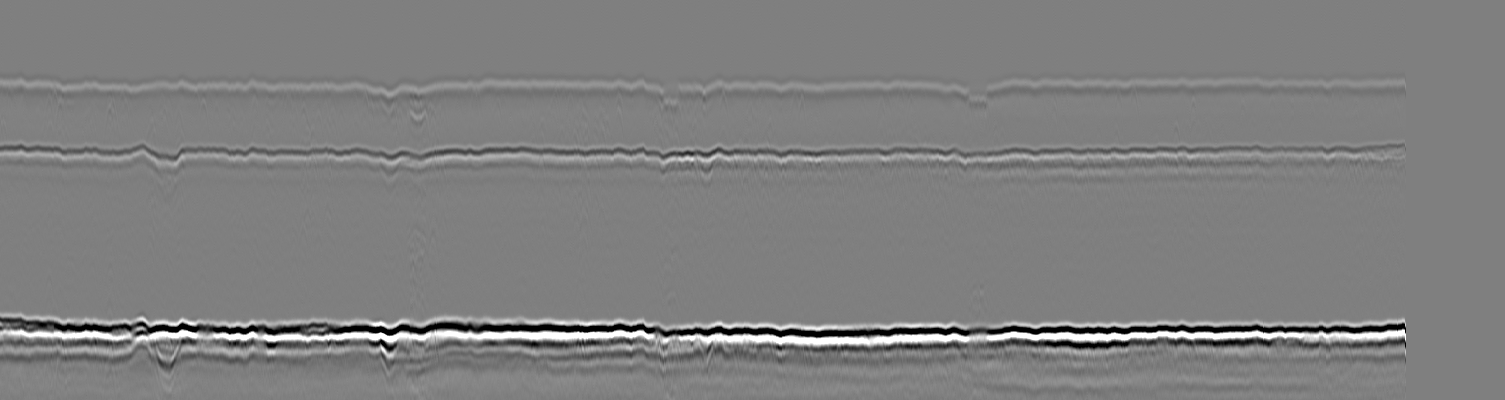fault: (137, 132, 191, 205), (956, 68, 1003, 125), (647, 66, 694, 119)
